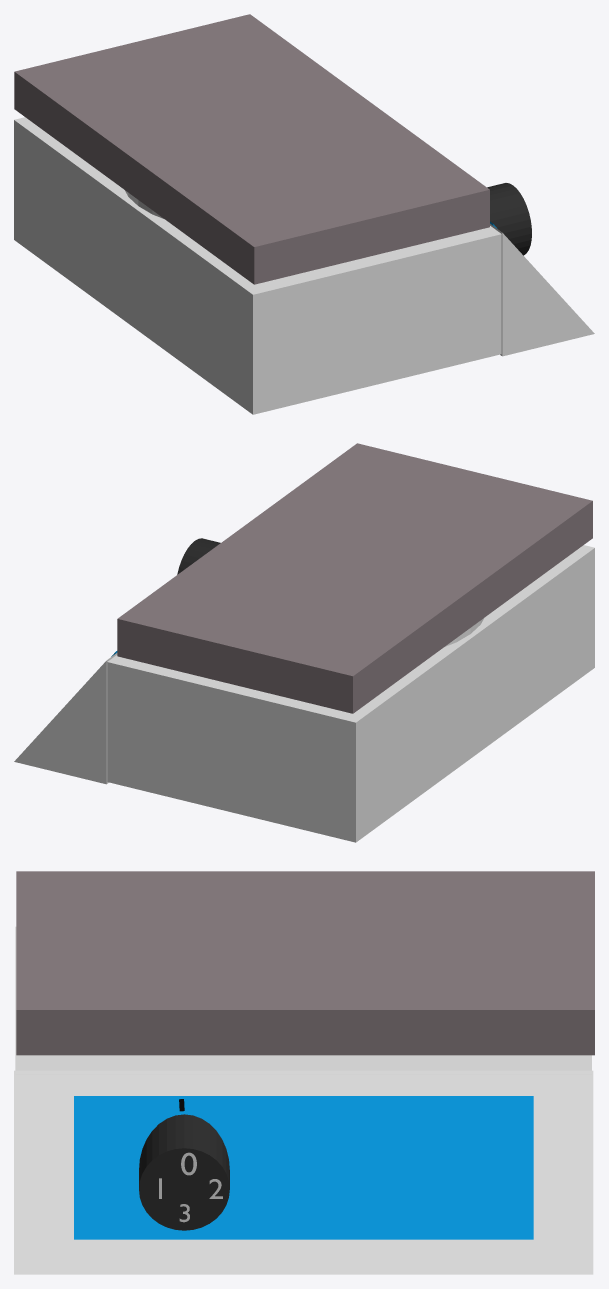
Rendered from agitateur1.glb.
3 renders of one model, top to bottom at view 1: azimuth 30°, elevation 25°; view 2: azimuth 150°, elevation 25°; view 3: azimuth 270°, elevation 25°, orthographic. The views are drawn at different scales.
Parts seen in each view (by area): view 1: Cube.003, Cube, Cube.001, Cylinder.001; view 2: Cube.003, Cube, Cube.001, Cylinder.001; view 3: Cube.003, Cube.002, Cube.001, Cube, Cylinder.001.
Part boxes in pixels (x1,y1,x2,y2): Cube.003: [14, 14, 489, 284]; Cube: [14, 117, 501, 414]; Cube.001: [490, 223, 594, 356]; Cylinder.001: [487, 183, 531, 255]; Cube.003: [117, 443, 592, 713]; Cube: [107, 545, 594, 842]; Cube.001: [14, 653, 117, 784]; Cylinder.001: [177, 538, 220, 574]; Cube.003: [16, 871, 594, 1055]; Cube.002: [74, 1096, 533, 1239]; Cube.001: [14, 1070, 593, 1274]; Cube: [15, 926, 591, 1074]; Cylinder.001: [139, 1114, 229, 1230].
Bounding box in the file's own units: 3.2 × 1.51 × 3.91.
